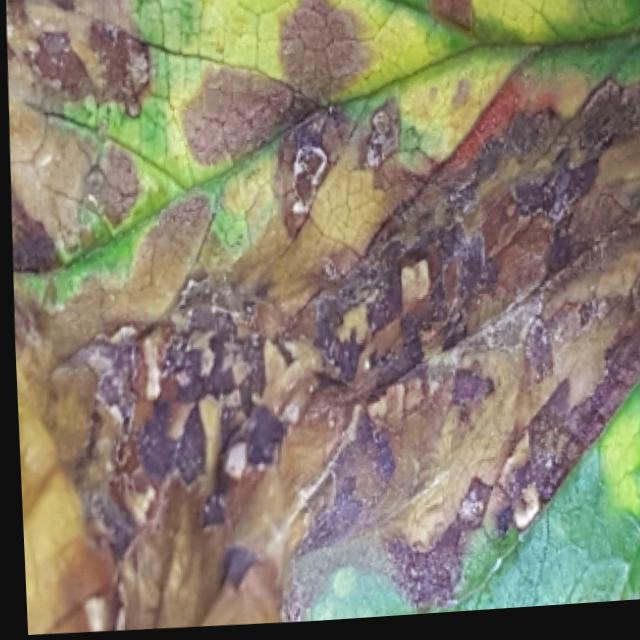Angular Leafspot: (6, 0, 640, 634)
